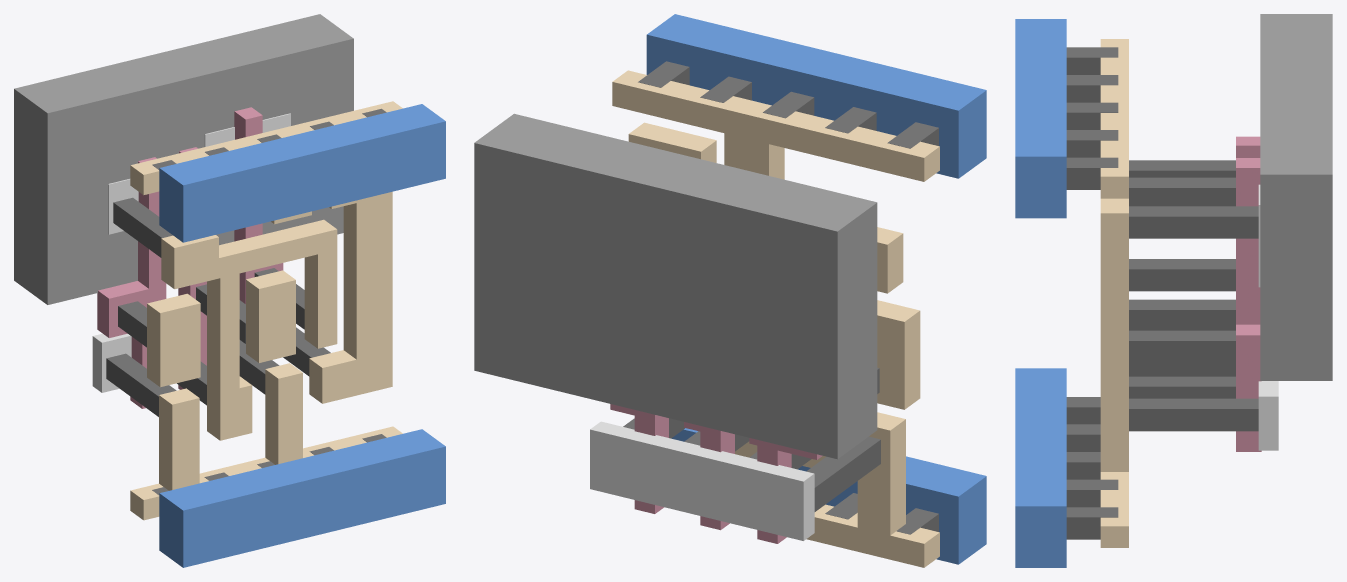
The model's file is sky130_fd_sc_hd__or2_0.gds.gltf.
The picture shows the model from 3 angles, left to right: view 1: azimuth 30°, elevation 25°; view 2: azimuth 150°, elevation 25°; view 3: azimuth 270°, elevation 25°; orthographic projection. The views are drawn at different scales.
Visible parts, largest first — view 1: sky130_fd_sc_hd__or2_0_li1, sky130_fd_sc_hd__or2_0_nwell, sky130_fd_sc_hd__or2_0_met1, sky130_fd_sc_hd__or2_0_licon, sky130_fd_sc_hd__or2_0_poly, sky130_fd_sc_hd__or2_0_diff, sky130_fd_sc_hd__or2_0_mcon; view 2: sky130_fd_sc_hd__or2_0_nwell, sky130_fd_sc_hd__or2_0_li1, sky130_fd_sc_hd__or2_0_met1, sky130_fd_sc_hd__or2_0_diff, sky130_fd_sc_hd__or2_0_mcon, sky130_fd_sc_hd__or2_0_licon, sky130_fd_sc_hd__or2_0_poly; view 3: sky130_fd_sc_hd__or2_0_licon, sky130_fd_sc_hd__or2_0_nwell, sky130_fd_sc_hd__or2_0_met1, sky130_fd_sc_hd__or2_0_li1, sky130_fd_sc_hd__or2_0_mcon, sky130_fd_sc_hd__or2_0_poly, sky130_fd_sc_hd__or2_0_diff.
Part boxes in pixels (bbox=[...]): sky130_fd_sc_hd__or2_0_li1: bbox=[130, 101, 402, 520]; sky130_fd_sc_hd__or2_0_nwell: bbox=[14, 14, 353, 304]; sky130_fd_sc_hd__or2_0_met1: bbox=[159, 104, 445, 567]; sky130_fd_sc_hd__or2_0_licon: bbox=[106, 197, 330, 416]; sky130_fd_sc_hd__or2_0_poly: bbox=[97, 107, 283, 408]; sky130_fd_sc_hd__or2_0_diff: bbox=[92, 113, 290, 392]; sky130_fd_sc_hd__or2_0_mcon: bbox=[152, 108, 386, 494]; sky130_fd_sc_hd__or2_0_nwell: bbox=[474, 113, 877, 459]; sky130_fd_sc_hd__or2_0_li1: bbox=[612, 70, 939, 567]; sky130_fd_sc_hd__or2_0_met1: bbox=[646, 14, 986, 564]; sky130_fd_sc_hd__or2_0_diff: bbox=[590, 421, 814, 540]; sky130_fd_sc_hd__or2_0_mcon: bbox=[638, 61, 938, 534]; sky130_fd_sc_hd__or2_0_licon: bbox=[623, 367, 880, 511]; sky130_fd_sc_hd__or2_0_poly: bbox=[610, 404, 822, 543]; sky130_fd_sc_hd__or2_0_licon: bbox=[1129, 160, 1258, 431]; sky130_fd_sc_hd__or2_0_nwell: bbox=[1260, 14, 1332, 380]; sky130_fd_sc_hd__or2_0_met1: bbox=[1015, 19, 1066, 567]; sky130_fd_sc_hd__or2_0_li1: bbox=[1100, 39, 1128, 547]; sky130_fd_sc_hd__or2_0_mcon: bbox=[1066, 47, 1118, 539]; sky130_fd_sc_hd__or2_0_poly: bbox=[1236, 136, 1261, 451]; sky130_fd_sc_hd__or2_0_diff: bbox=[1258, 184, 1278, 450].
Bounding box in the file's own units: 2.68 × 3.2 × 2.24.
